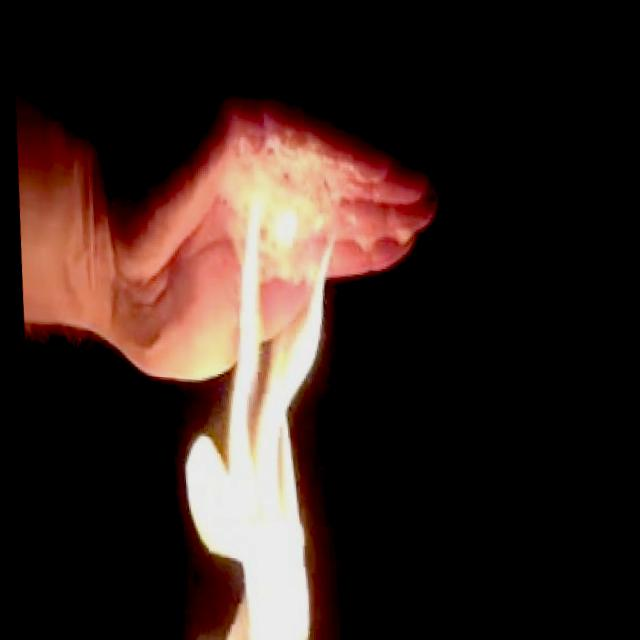Fire: (143, 137, 372, 640)
